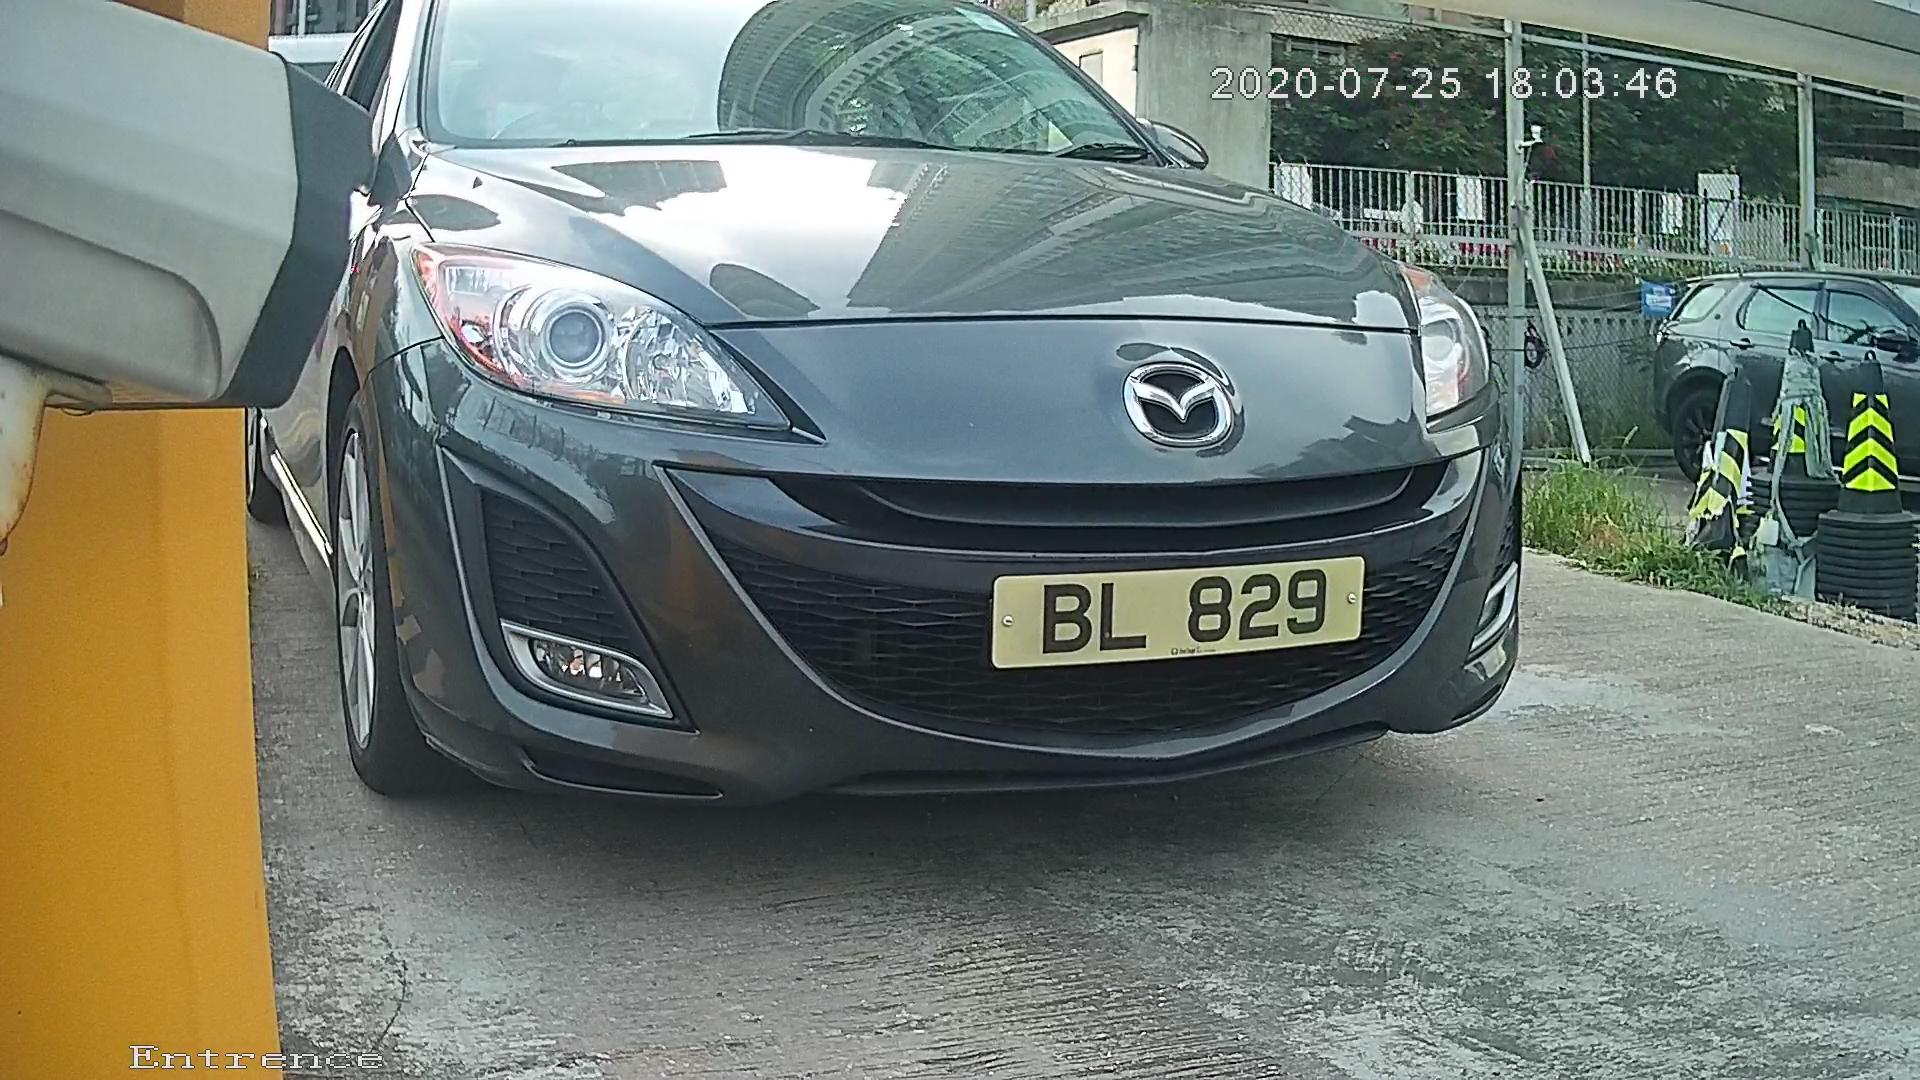Car: (146, 1, 1663, 864)
License Plate: (961, 550, 1381, 671)
